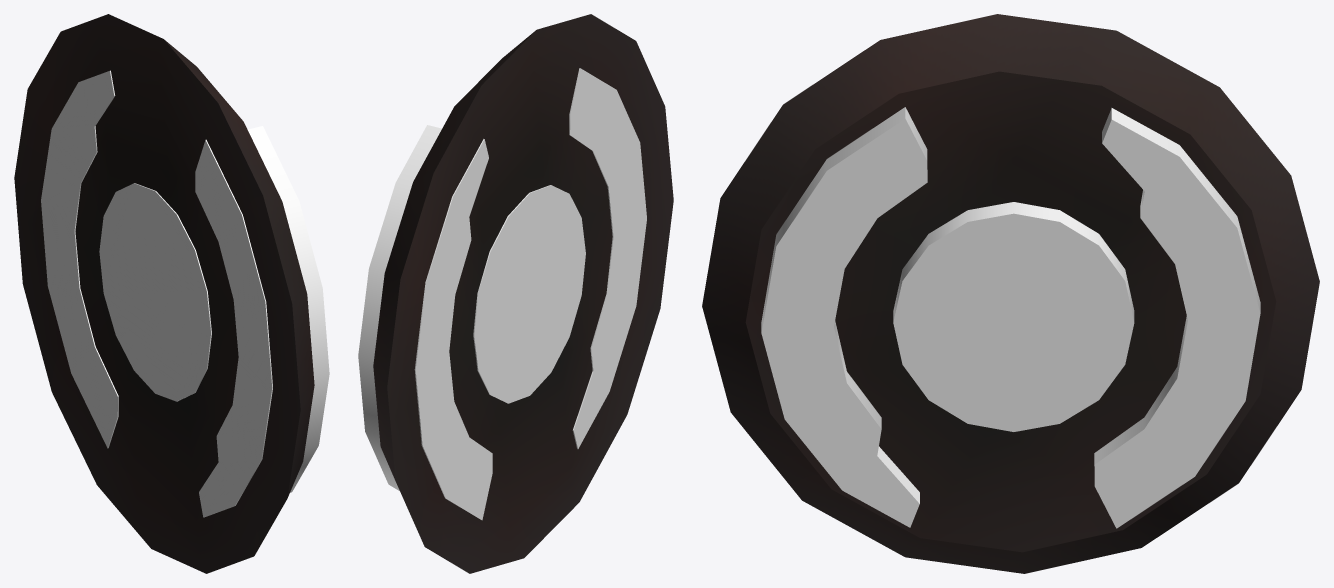
Rendered from Light_round.FBX.
3 views of the same model, side by side, from view 1: azimuth 30°, elevation 25°; view 2: azimuth 150°, elevation 25°; view 3: azimuth 270°, elevation 25° (orthographic). The views are drawn at different scales.
Visible parts, largest first — view 1: Light_4_base, Light_circle; view 2: Light_4_base, Light_circle; view 3: Light_4_base, Light_circle.
Boxes of the visible parts, box(x1,y1,x2,y2) form: Light_4_base: box(14, 14, 314, 573); Light_circle: box(41, 70, 329, 517); Light_4_base: box(373, 14, 673, 573); Light_circle: box(358, 68, 646, 520); Light_4_base: box(702, 14, 1319, 573); Light_circle: box(761, 107, 1260, 528).
Bounding box in the file's own units: 7 × 60.44 × 60.44.
